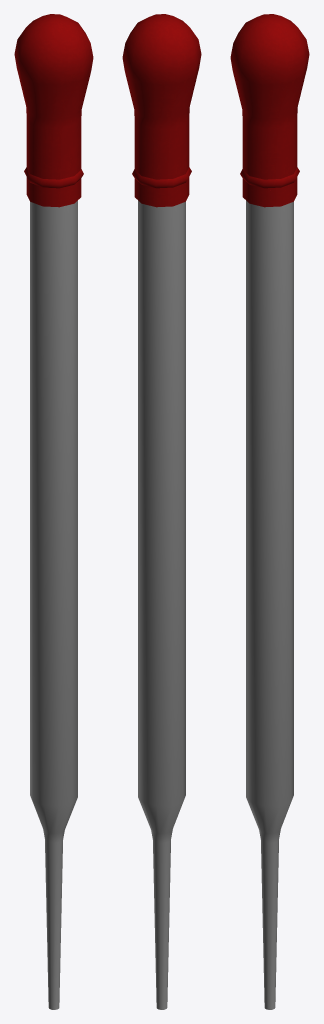
File: SM_胶头滴管.FBX
The picture shows the model from 3 angles, left to right: view 1: azimuth 30°, elevation 25°; view 2: azimuth 150°, elevation 25°; view 3: azimuth 330°, elevation 25°; orthographic projection.
Parts seen in each view (by area): view 1: SM_胶头滴管; view 2: SM_胶头滴管; view 3: SM_胶头滴管.
Part boxes in pixels (x1,y1,x2,y2): SM_胶头滴管: (14,14,93,1009); SM_胶头滴管: (122,14,201,1009); SM_胶头滴管: (230,14,309,1009).
Bounding box in the file's own units: 8.66 × 119 × 8.24.
